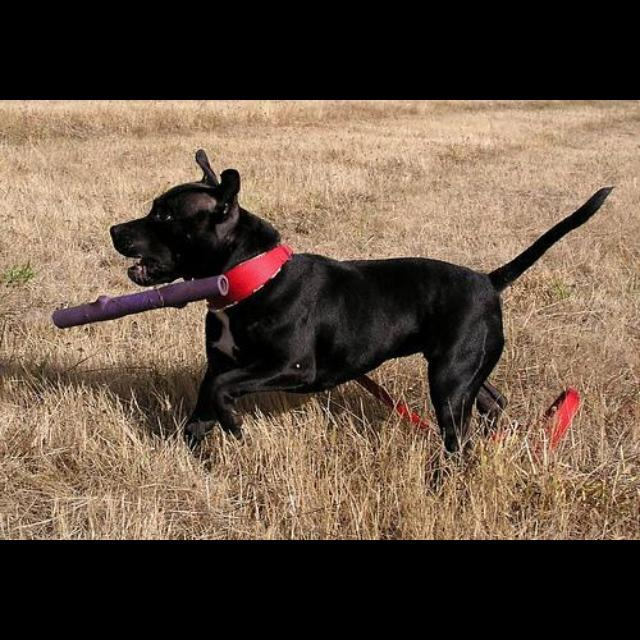staffford: (109, 149, 615, 475)
